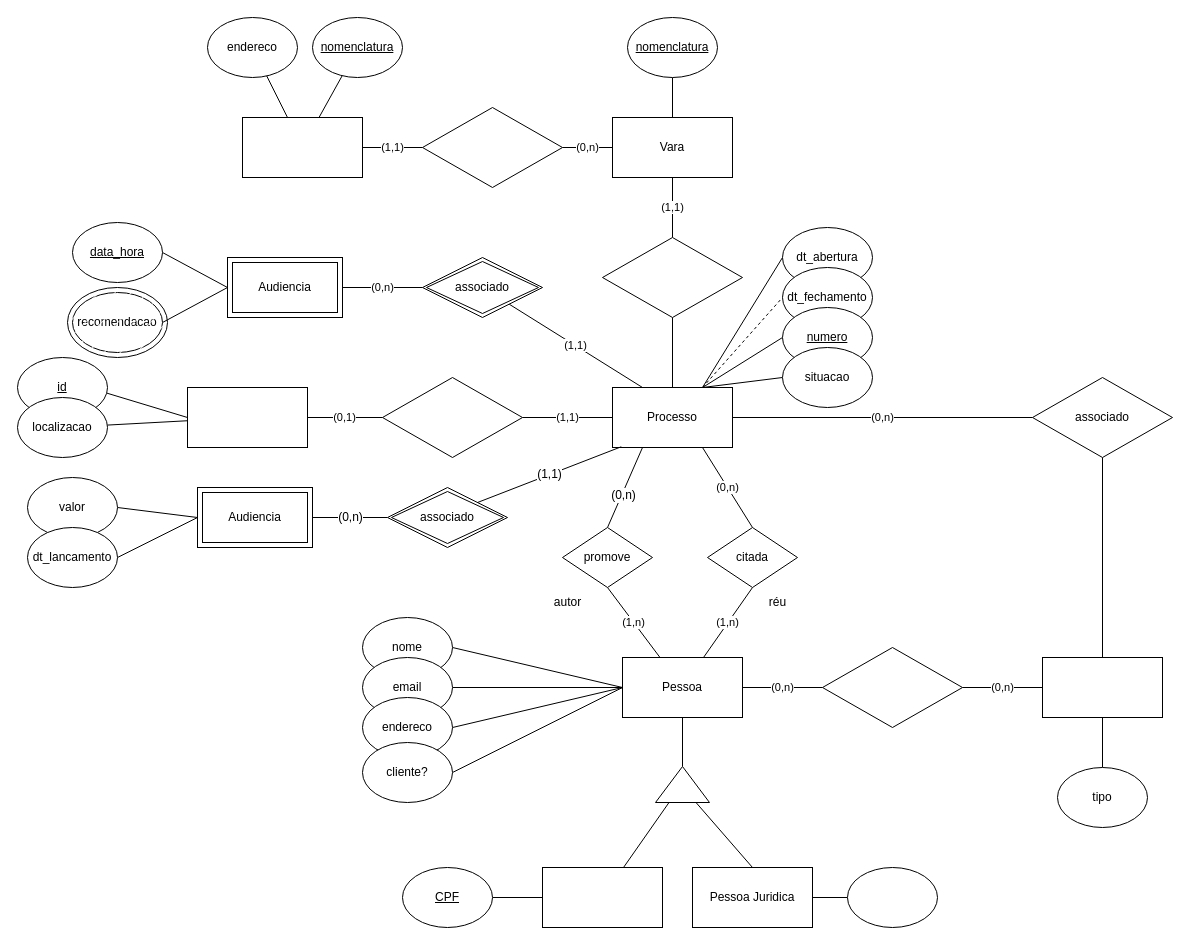
Some shapes in this 1190 by 945 pixel diagram are drawn without their labels. Each missing label, with the centre of its shape:
anexado: the point at 452,417
associada: the point at 492,147
CNPJ: the point at 892,897
contrata: the point at 892,687
Documento: the point at 247,417
Pessoa Fisica: the point at 602,897
Servicos: the point at 1102,687
tramita: the point at 672,277
Tribunal: the point at 302,147
